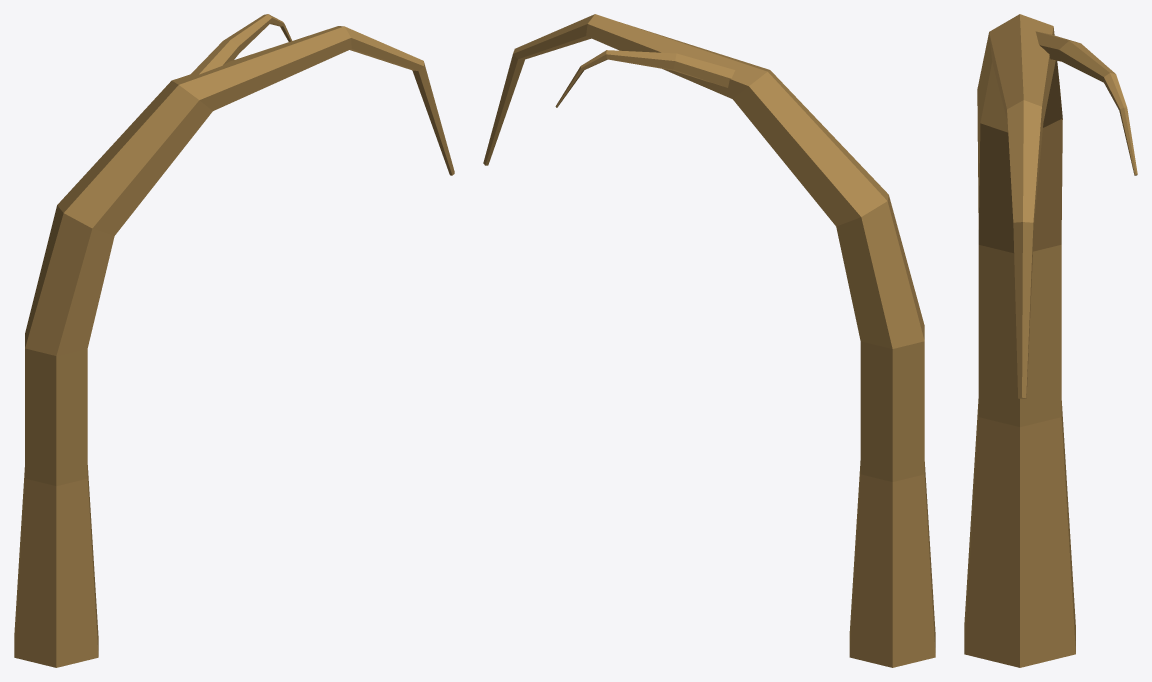
Rendered from Magic_Tree.fbx.
The picture shows the model from 3 angles, left to right: view 1: azimuth 30°, elevation 25°; view 2: azimuth 150°, elevation 25°; view 3: azimuth 270°, elevation 25°; orthographic projection. The views are drawn at different scales.
Parts seen in each view (by area): view 1: pCylinder26, pCylinder27; view 2: pCylinder26, pCylinder27; view 3: pCylinder26, pCylinder27.
Boxes of the visible parts, x1,y1,x2,y2 form: pCylinder26: [14, 26, 454, 667]; pCylinder27: [190, 14, 292, 74]; pCylinder26: [483, 14, 935, 667]; pCylinder27: [555, 50, 735, 107]; pCylinder26: [964, 14, 1075, 667]; pCylinder27: [1035, 31, 1137, 175].
Size of the model in its own units: 14.09 by 16.76 by 3.62.
